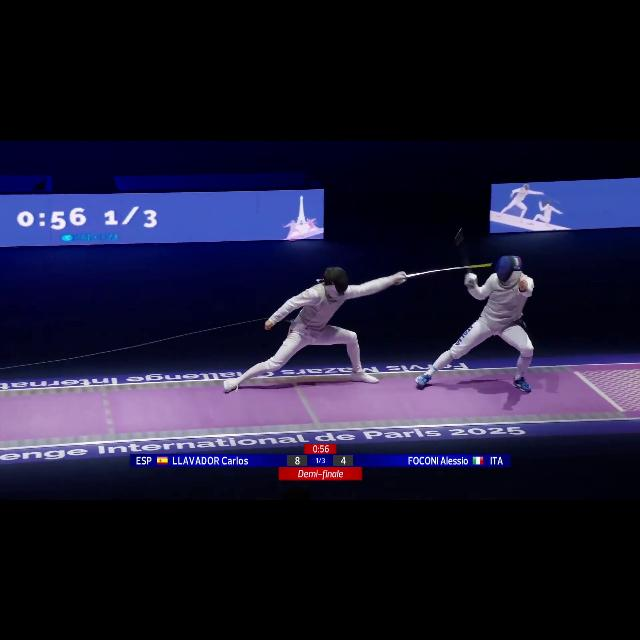blade: (392, 262, 494, 284), (456, 226, 482, 290)
